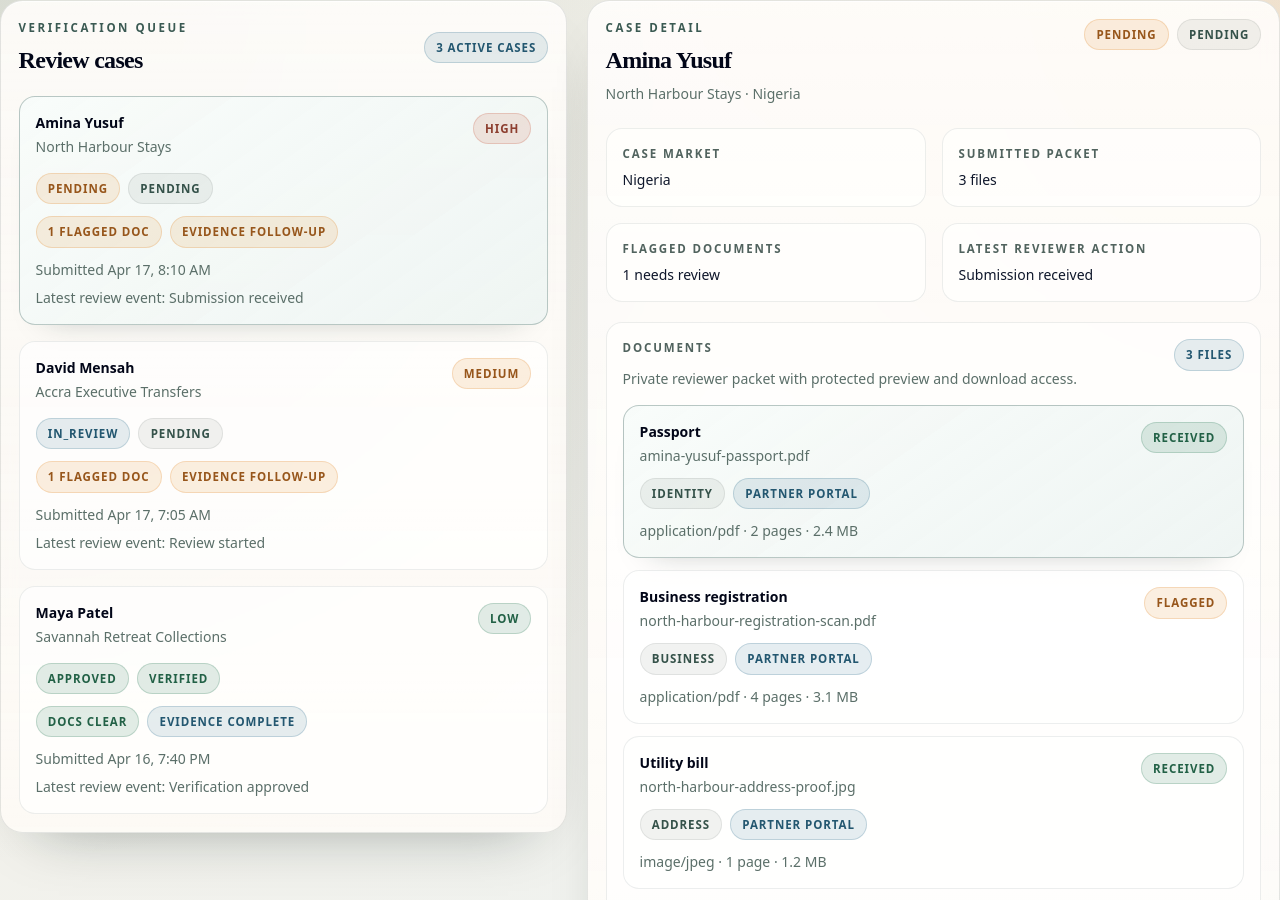
Test case: VerificationReviewWorkspace › connects action availability to the selected case state
The image size is (1280, 900).
Click the button "Maya Patel".
click(74, 612)  # box [19,586,548,814]
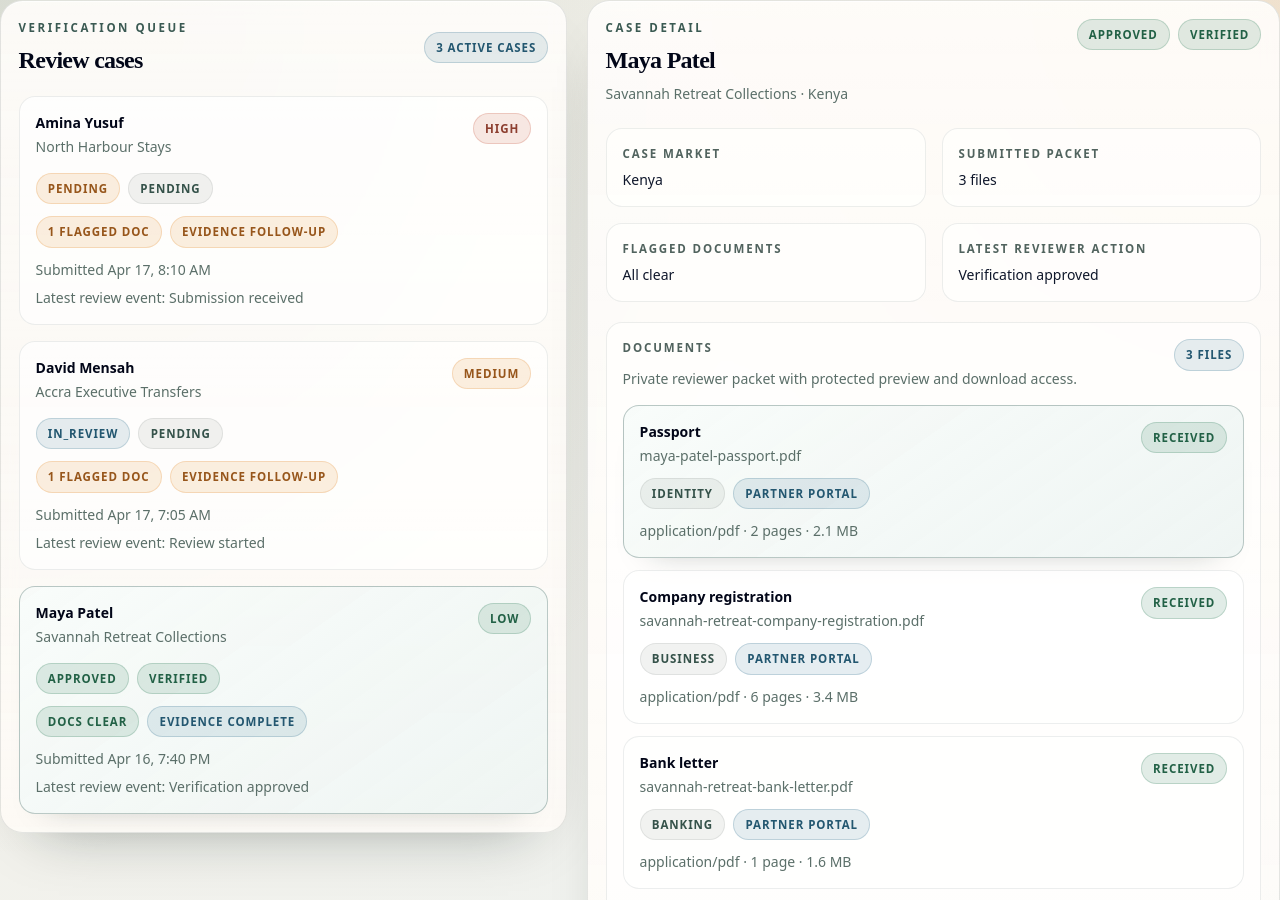
Expected: the text "Latest review event: Verification approved" is shown, [36,777,309,796]
Expected: the text "maya-patel-passport.pdf" is shown, [640,446,801,466]
